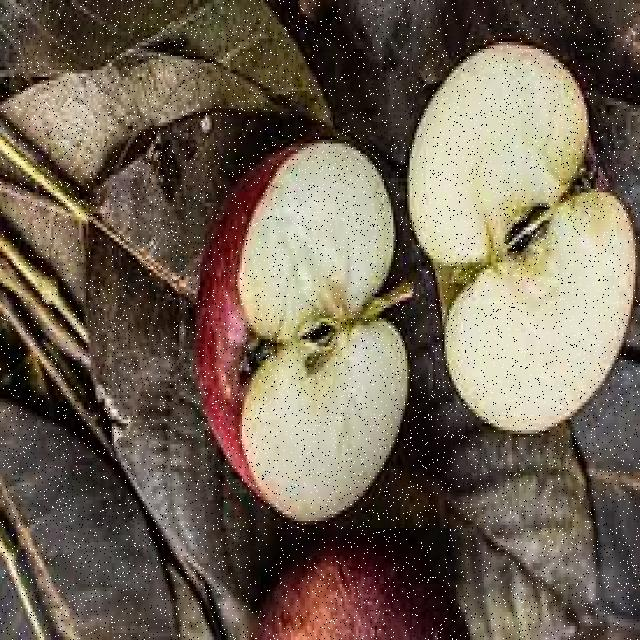Apple: (408, 46, 636, 432), (197, 142, 405, 520), (253, 560, 463, 640)
